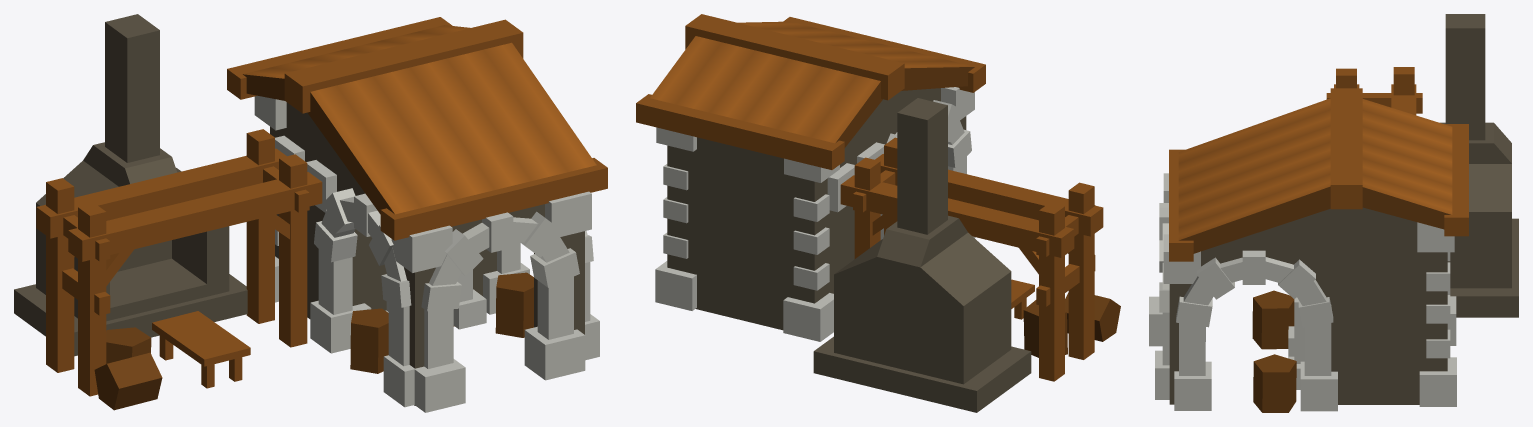
File: blacksmith.fbx
3 views of the same model, side by side, from view 1: azimuth 30°, elevation 25°; view 2: azimuth 150°, elevation 25°; view 3: azimuth 270°, elevation 25° (orthographic). The views are drawn at different scales.
Parts seen in each view (by area): view 1: polySurface544; view 2: polySurface544; view 3: polySurface544.
Boxes of the visible parts, x1,y1,x2,y2 form: polySurface544: (14, 14, 607, 412); polySurface544: (636, 14, 1120, 412); polySurface544: (1149, 14, 1518, 412).
Bounding box in the file's own units: 190 × 121 × 154.
Materials: 1 (1 with a texture image).
